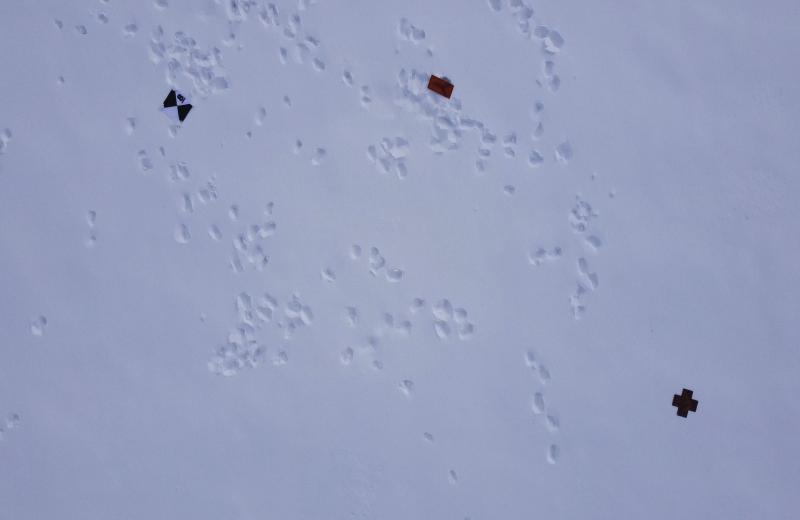Cross: (669, 384, 698, 421)
Rectangle: (425, 74, 458, 104)
